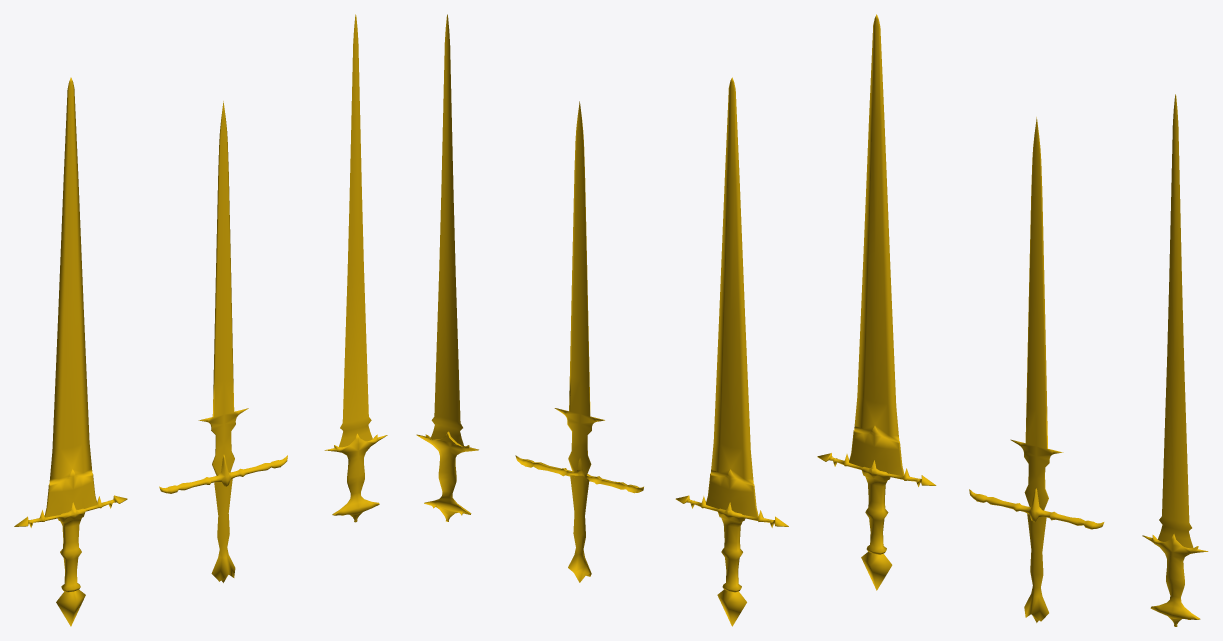
Rendered from AllSwords_001_low.fbx.
3 renders of one model, left to right at view 1: azimuth 30°, elevation 25°; view 2: azimuth 150°, elevation 25°; view 3: azimuth 330°, elevation 25°, orthographic. The views are drawn at different scales.
Visible parts, largest first — view 1: WS_low, OHS_Blade_low, TH_Blade_low, OHS_Bottom_low, TH_Handle_low, TH_Guard_low; view 2: WS_low, OHS_Blade_low, TH_Blade_low, OHS_Bottom_low, TH_Handle_low, TH_Guard_low; view 3: WS_low, OHS_Blade_low, TH_Blade_low, OHS_Bottom_low, TH_Handle_low, TH_Guard_low.
Boxes of the visible parts, x1,y1,x2,y2 form: WS_low: (14,77,127,626); OHS_Blade_low: (339,14,372,447); TH_Blade_low: (198,101,248,475); OHS_Bottom_low: (324,433,387,522); TH_Handle_low: (211,479,235,582); TH_Guard_low: (159,455,287,493); WS_low: (675,77,788,626); OHS_Blade_low: (430,14,464,447); TH_Blade_low: (554,101,604,475); OHS_Bottom_low: (416,431,478,521); TH_Handle_low: (568,475,591,582); TH_Guard_low: (515,455,643,493); WS_low: (817,14,936,590); OHS_Blade_low: (1157,94,1193,548); TH_Blade_low: (1010,117,1063,510); OHS_Bottom_low: (1142,534,1208,626); TH_Handle_low: (1024,513,1048,622); TH_Guard_low: (969,488,1104,529).
Size of the model in its own units: 373 by 525 by 18.96.
